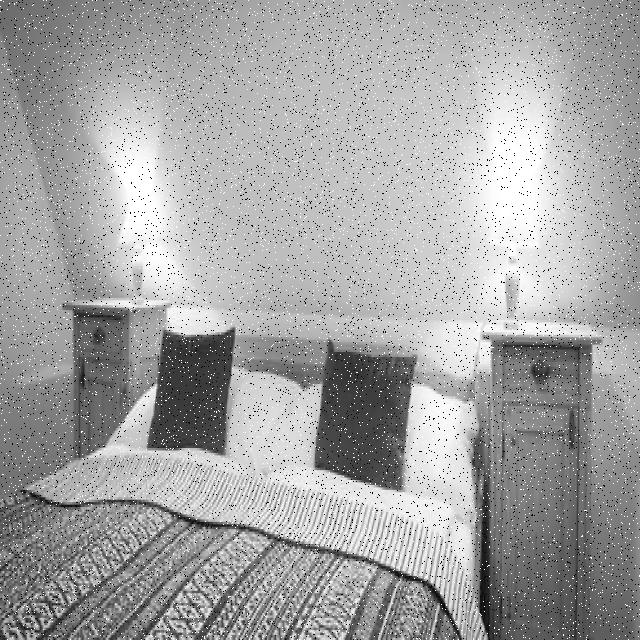bed: (0, 315, 480, 640)
